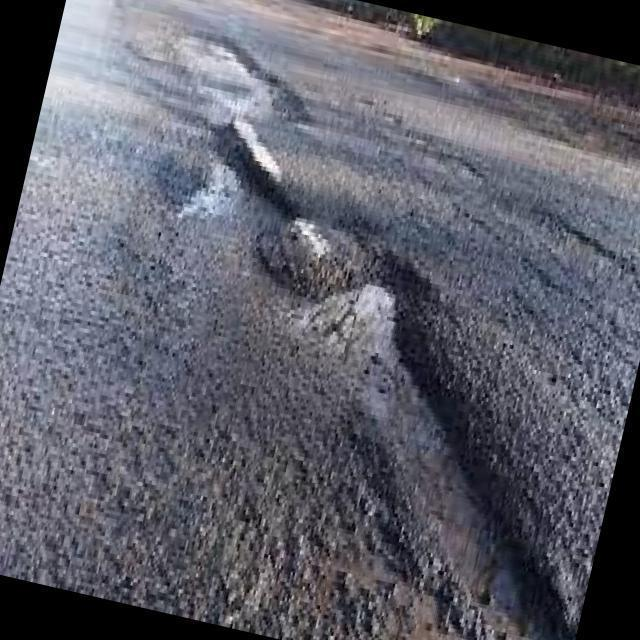pothole: (359, 239, 537, 623), (162, 111, 310, 237), (161, 22, 315, 132)
